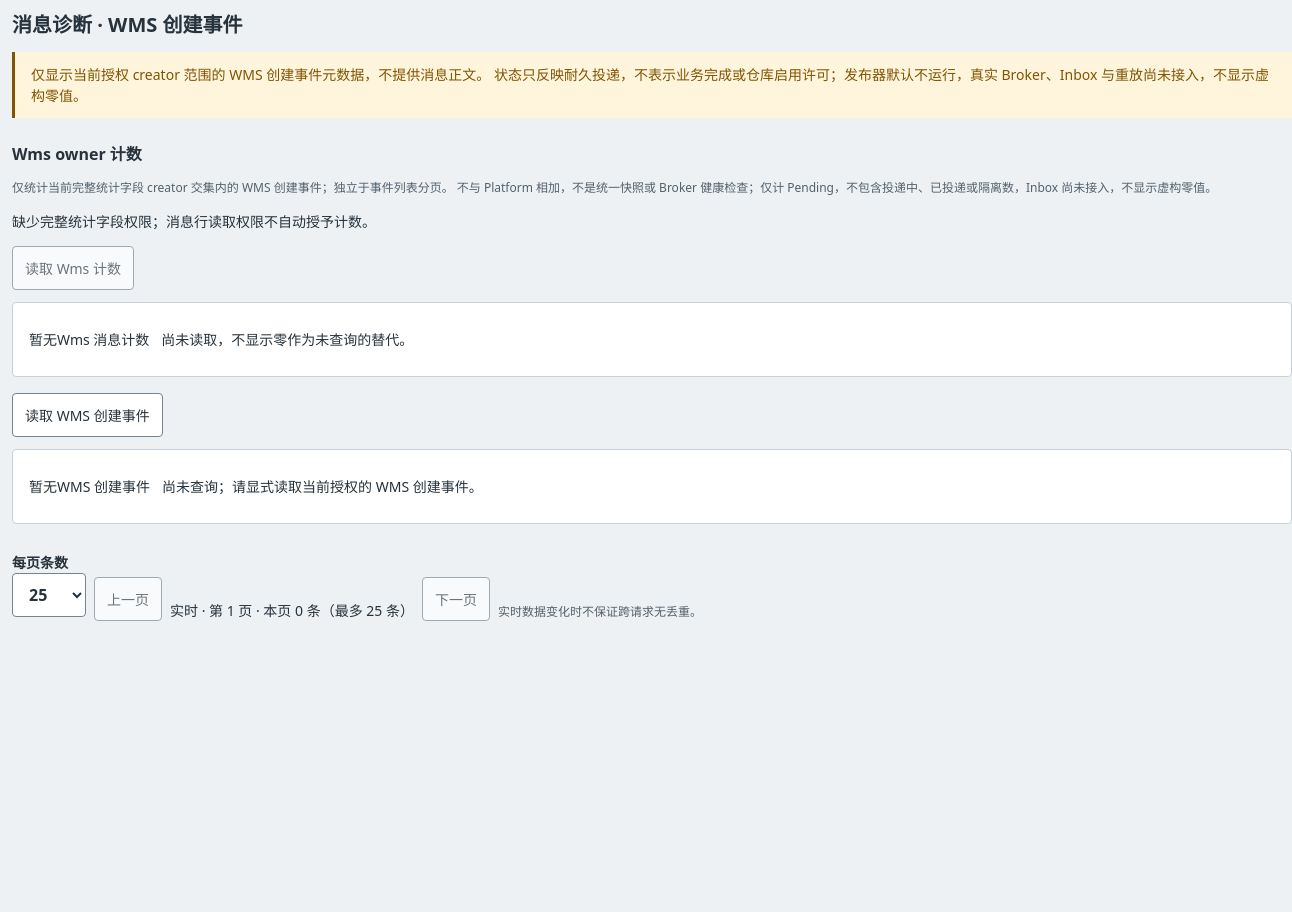
reads only explicit WMS pending metadata with Own scope and no fictitious delivery statistics
Click the button with test id "read-wms-events" at (87, 415), box [12,393,163,437]
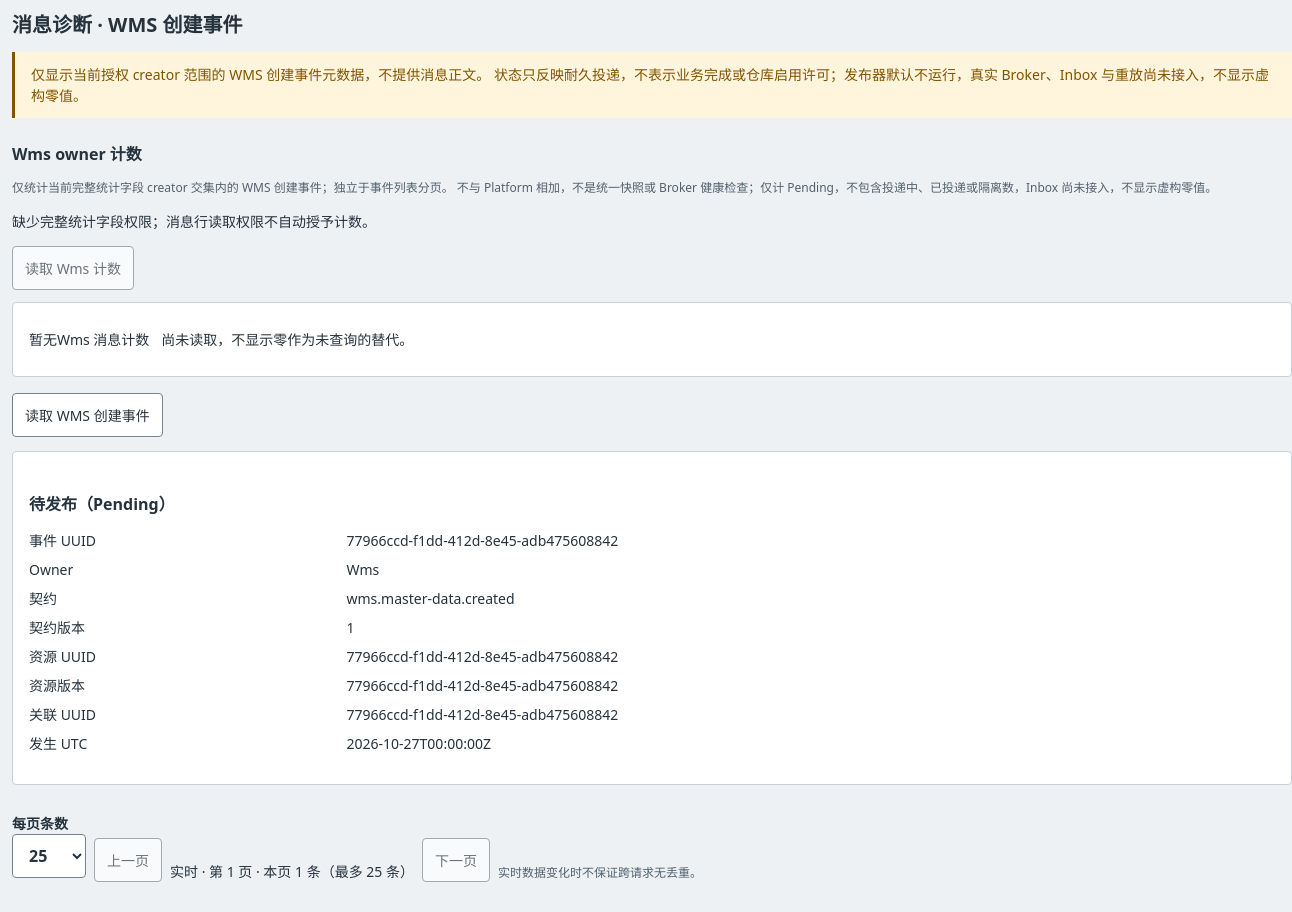
Expected: the text "尚未接入" is shown, [31,65,1269,105]
Expected: the list with test id "wms-events" shows "77966ccd-f1dd-412d-8e45-adb475608842", [346,531,618,550]
